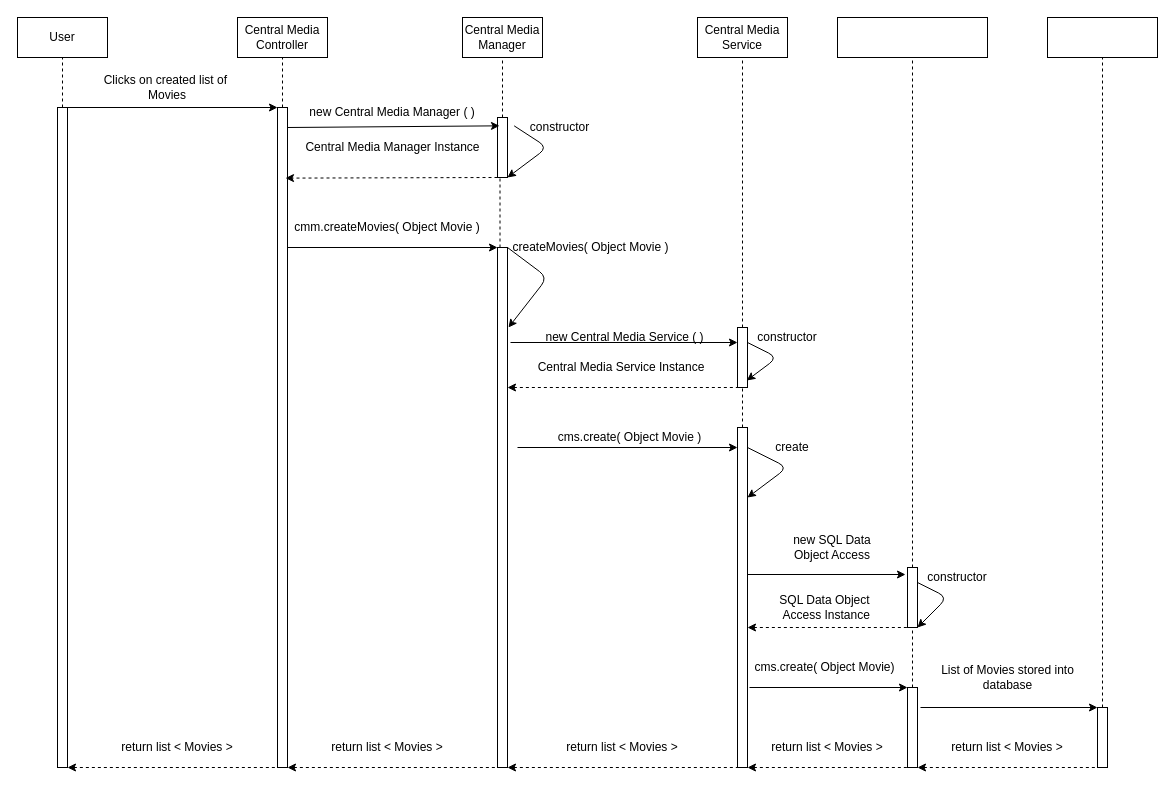
This 1175x793 diagram has some shape labels left out. Here are the shapes that lost their labels. From the top down, the box of each, then its label:
(836, 16, 988, 58): SQL Data Access Object
(1046, 16, 1158, 58): SQL Server
